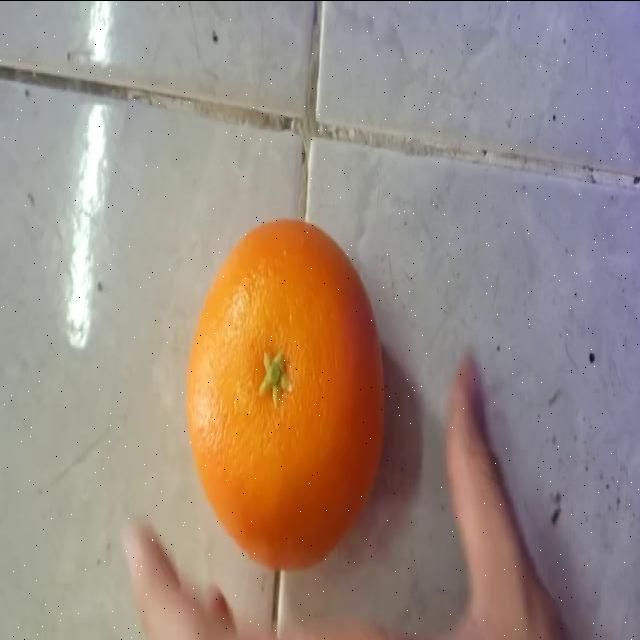Orange: (183, 217, 386, 572)
